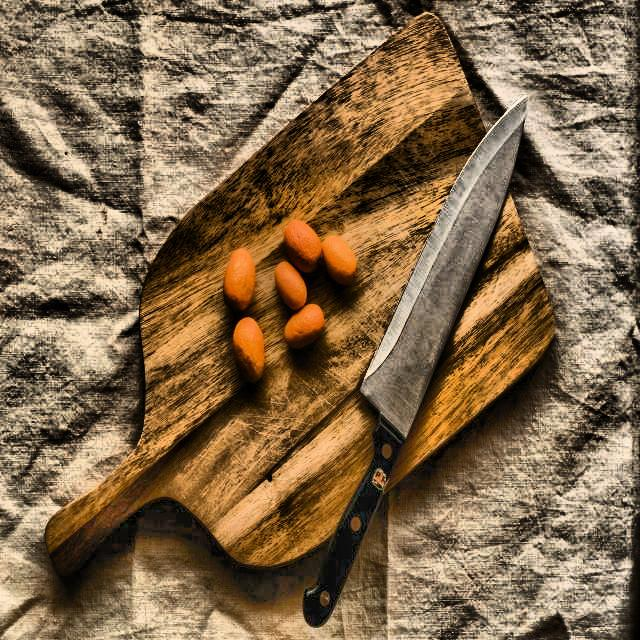knife: (298, 97, 534, 628)
